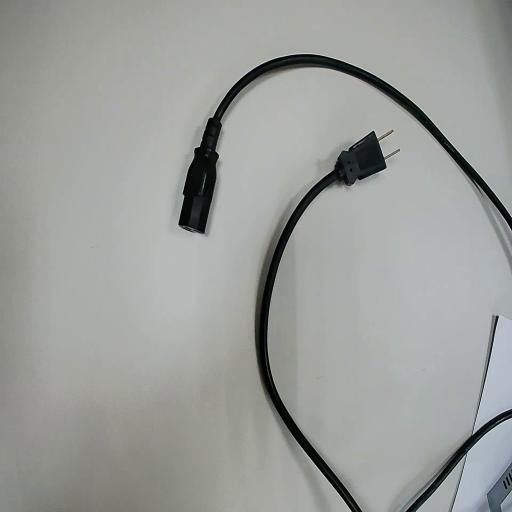wire: (180, 55, 511, 232), (256, 133, 384, 511)
